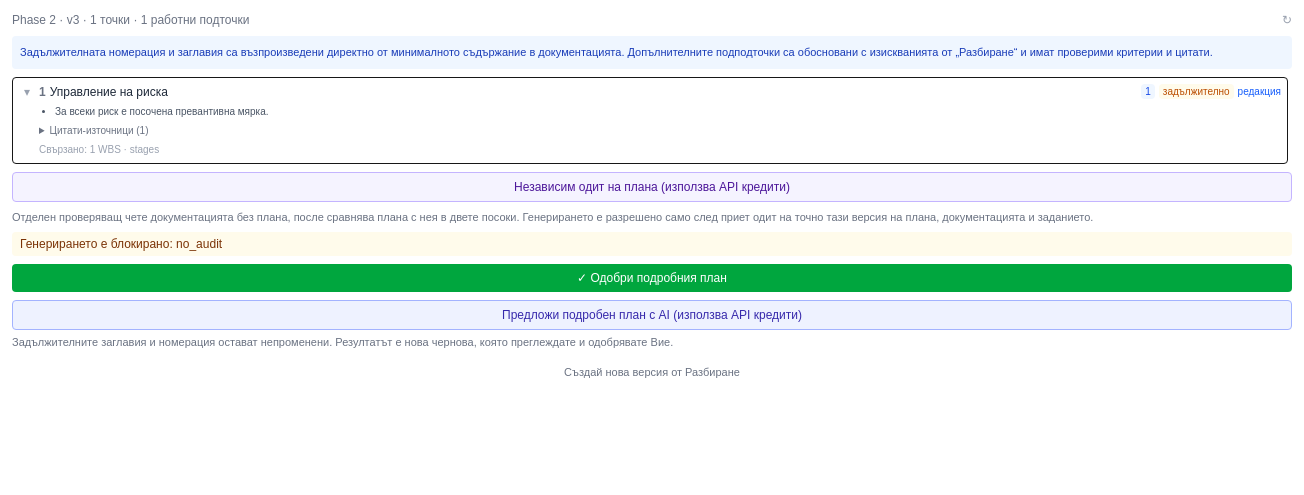
Test case: OutlinePanel Phase 2 › keeps tender-mandated headings visibly locked
Check: the text "задължително" is shown, box [1159, 84, 1234, 98]
Click the button "редакция" at (1259,91), box [1238, 84, 1281, 98]
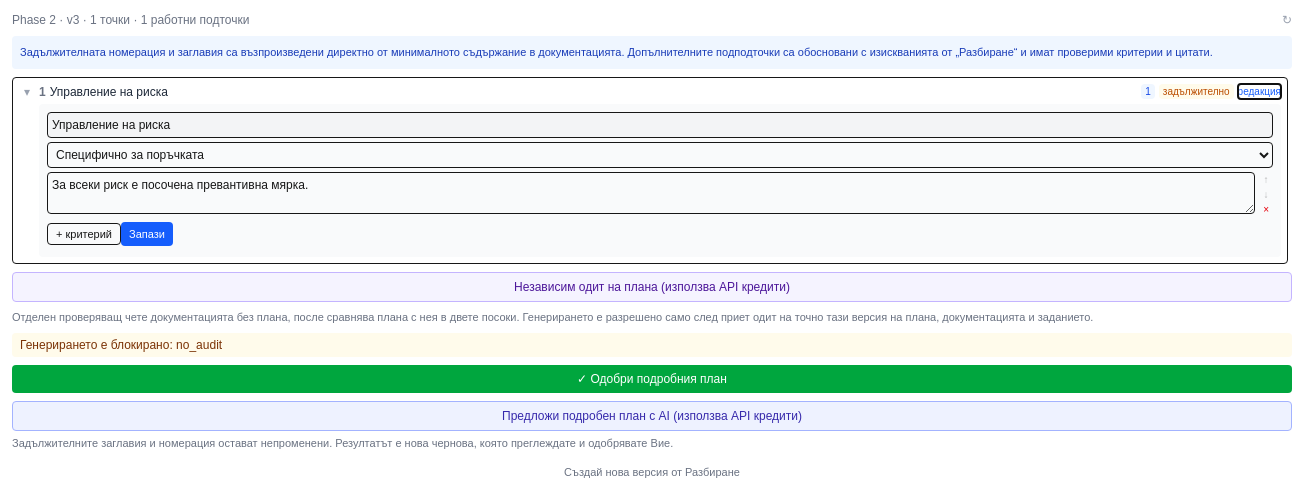
Check: the field named "Заглавие на точката" is disabled, box [47, 112, 1273, 138]
